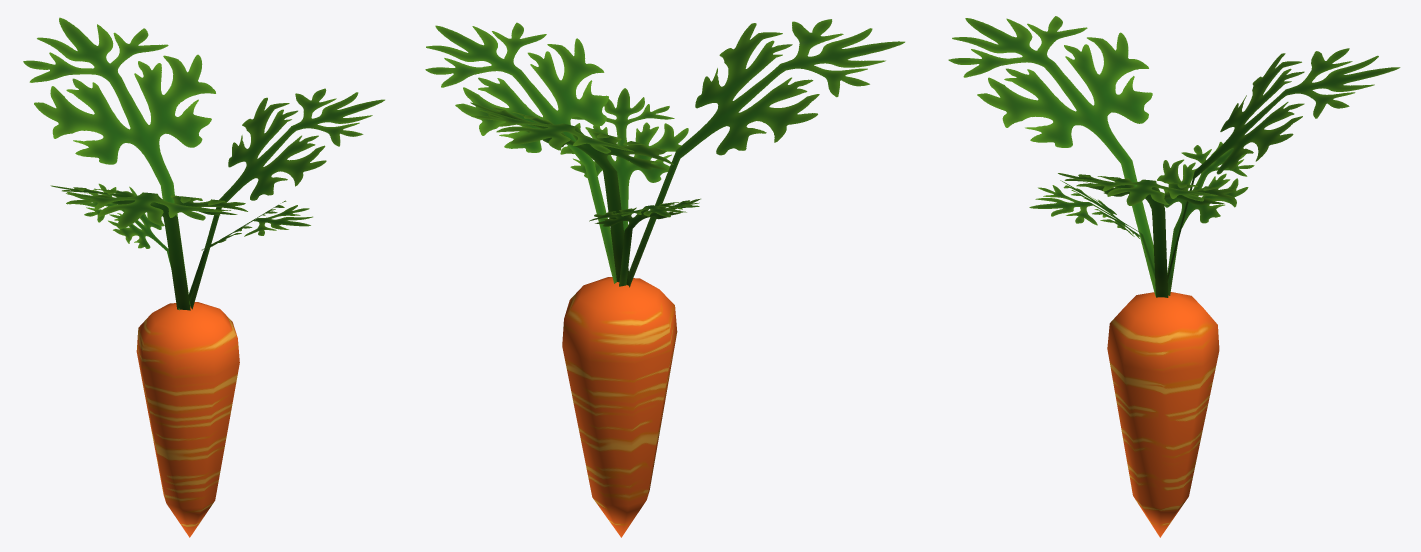
File: CarrotAnim.fbx
The picture shows the model from 3 angles, left to right: view 1: azimuth 30°, elevation 25°; view 2: azimuth 150°, elevation 25°; view 3: azimuth 270°, elevation 25°; orthographic projection. The views are drawn at different scales.
Visible parts, largest first — view 1: Carrot_single; view 2: Carrot_single; view 3: Carrot_single.
Part boxes in pixels (left/top/right/bottom): Carrot_single: left=23, top=17, right=384, bottom=537; Carrot_single: left=425, top=19, right=904, bottom=537; Carrot_single: left=948, top=16, right=1400, bottom=537.
Size of the model in its own units: 87.74 by 102 by 92.95.
1 material, 1 textured.
